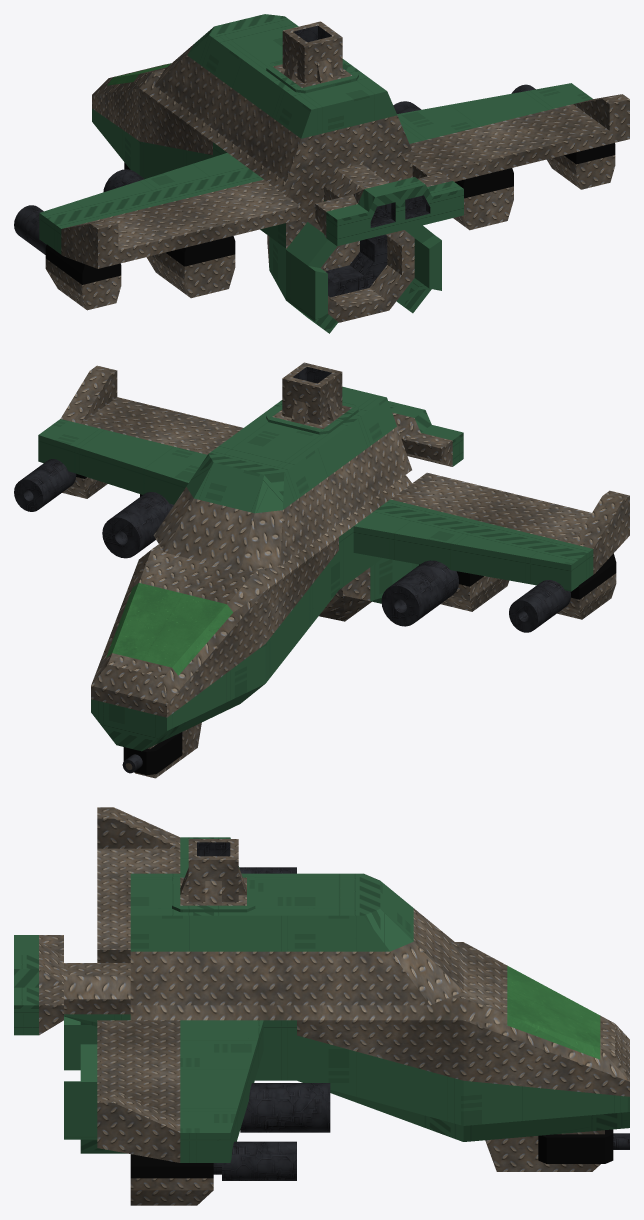
File: heli_body.glb
3 renders of one model, top to bottom at view 1: azimuth 30°, elevation 25°; view 2: azimuth 150°, elevation 25°; view 3: azimuth 270°, elevation 25°, orthographic. The views are drawn at different scales.
Parts seen in each view (by area): view 1: mergedBlocks(Clone); view 2: mergedBlocks(Clone); view 3: mergedBlocks(Clone).
Boxes of the visible parts, x1,y1,x2,y2 form: mergedBlocks(Clone): [14, 14, 629, 333]; mergedBlocks(Clone): [14, 362, 629, 778]; mergedBlocks(Clone): [14, 807, 629, 1205].
Bounding box in the file's own units: 4.21 × 2.1 × 3.7.
Materials: 5 (4 with a texture image).
